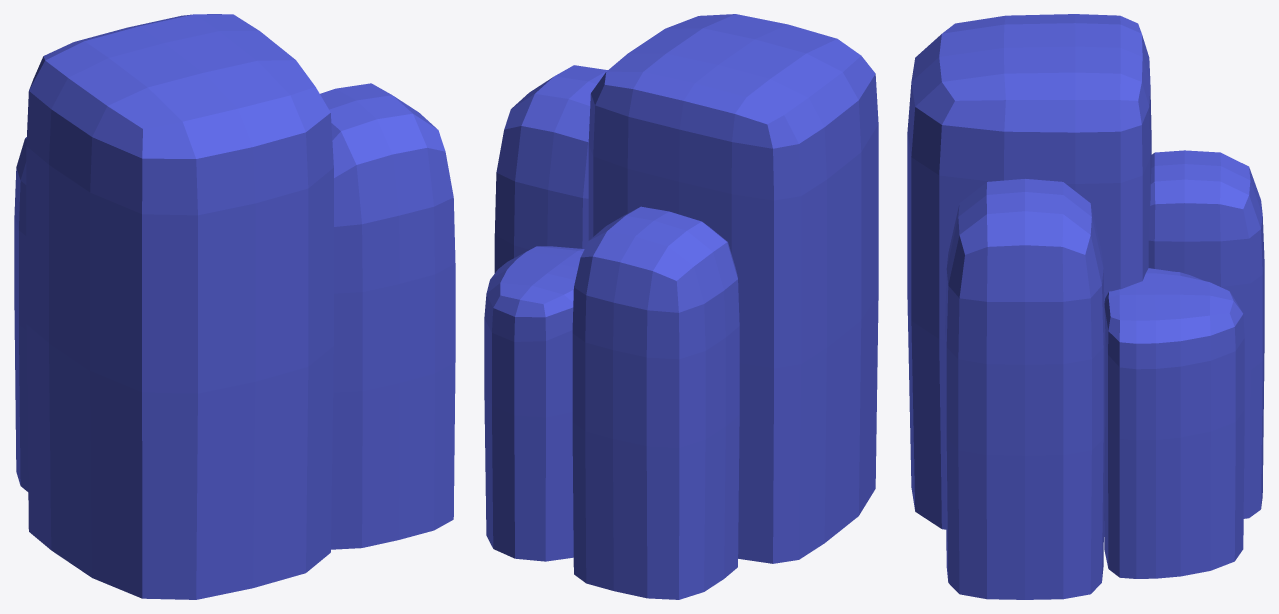
Rendered from Wall_Rocks.glb.
3 views of the same model, side by side, from view 1: azimuth 30°, elevation 25°; view 2: azimuth 150°, elevation 25°; view 3: azimuth 270°, elevation 25° (orthographic). The views are drawn at different scales.
Visible parts, largest first — view 1: Wall_Rocks; view 2: Wall_Rocks; view 3: Wall_Rocks.
Boxes of the visible parts, x1=… form: Wall_Rocks: x1=14, y1=14, x2=455, y2=599; Wall_Rocks: x1=484, y1=14, x2=878, y2=599; Wall_Rocks: x1=907, y1=14, x2=1264, y2=599.
Bounding box in the file's own units: 0.4967 × 0.6499 × 0.4704.
